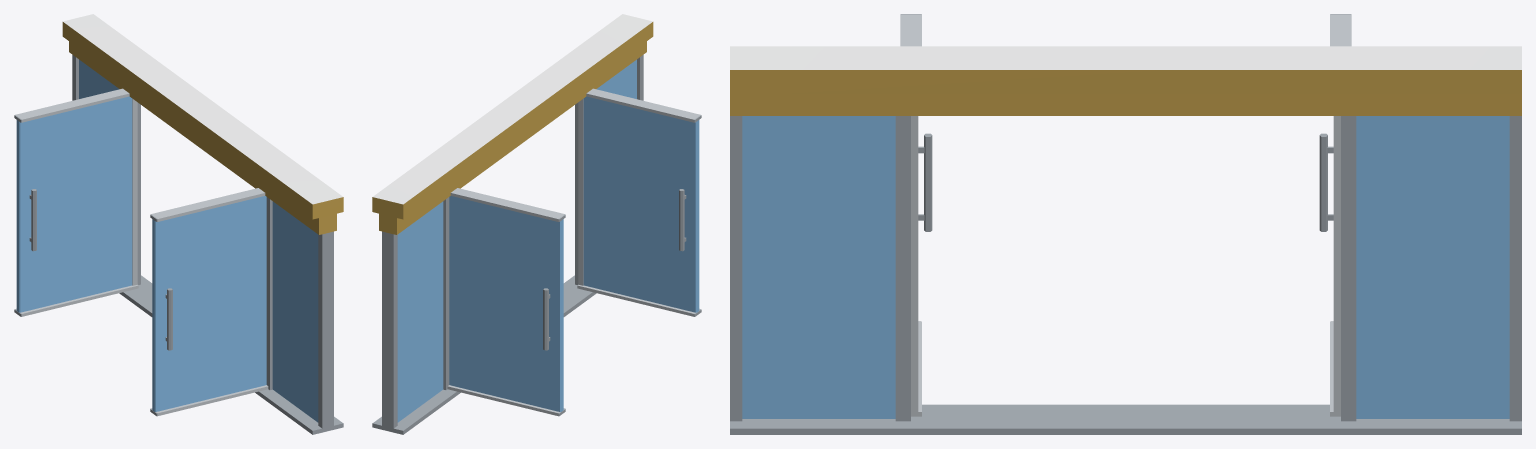
File: Cua kinh 1.002.gltf
3 renders of one model, left to right at view 1: azimuth 30°, elevation 25°; view 2: azimuth 150°, elevation 25°; view 3: azimuth 270°, elevation 25°, orthographic. The views are drawn at different scales.
Parts seen in each view (by area): view 1: Cua kinh 1.002; view 2: Cua kinh 1.002; view 3: Cua kinh 1.002.
Boxes of the visible parts, left/top/right/bottom form: Cua kinh 1.002: left=14, top=14, right=343, bottom=434; Cua kinh 1.002: left=372, top=14, right=701, bottom=434; Cua kinh 1.002: left=730, top=14, right=1521, bottom=434.
Size of the model in its own units: 5.17 by 8.57 by 16.85.
1 material, 1 textured.
